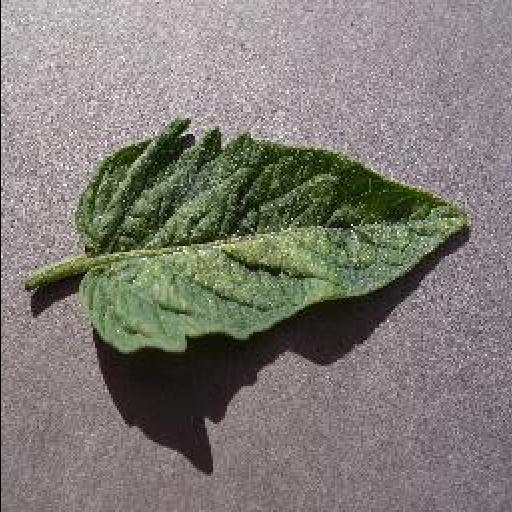disease_tomato: (72, 119, 466, 357)
